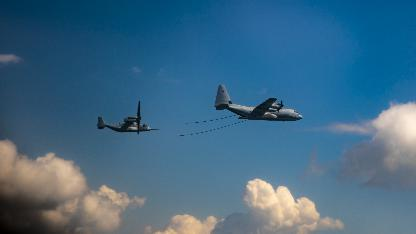Be200: (212, 84, 302, 120)
Tornado: (97, 100, 159, 132)
